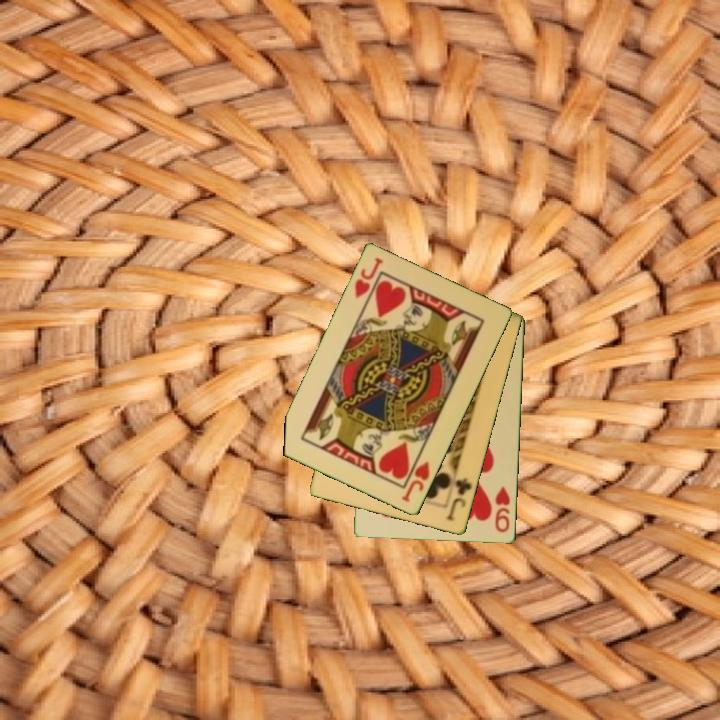9h: (491, 483, 513, 536)
Jc: (444, 474, 474, 524)
Jh: (398, 458, 433, 506), (351, 254, 386, 302)
